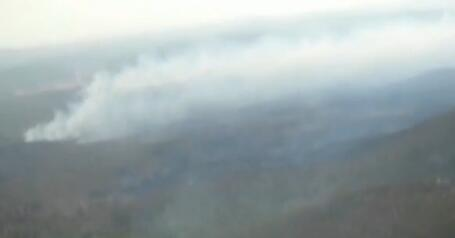yanwu: (21, 2, 453, 146)
